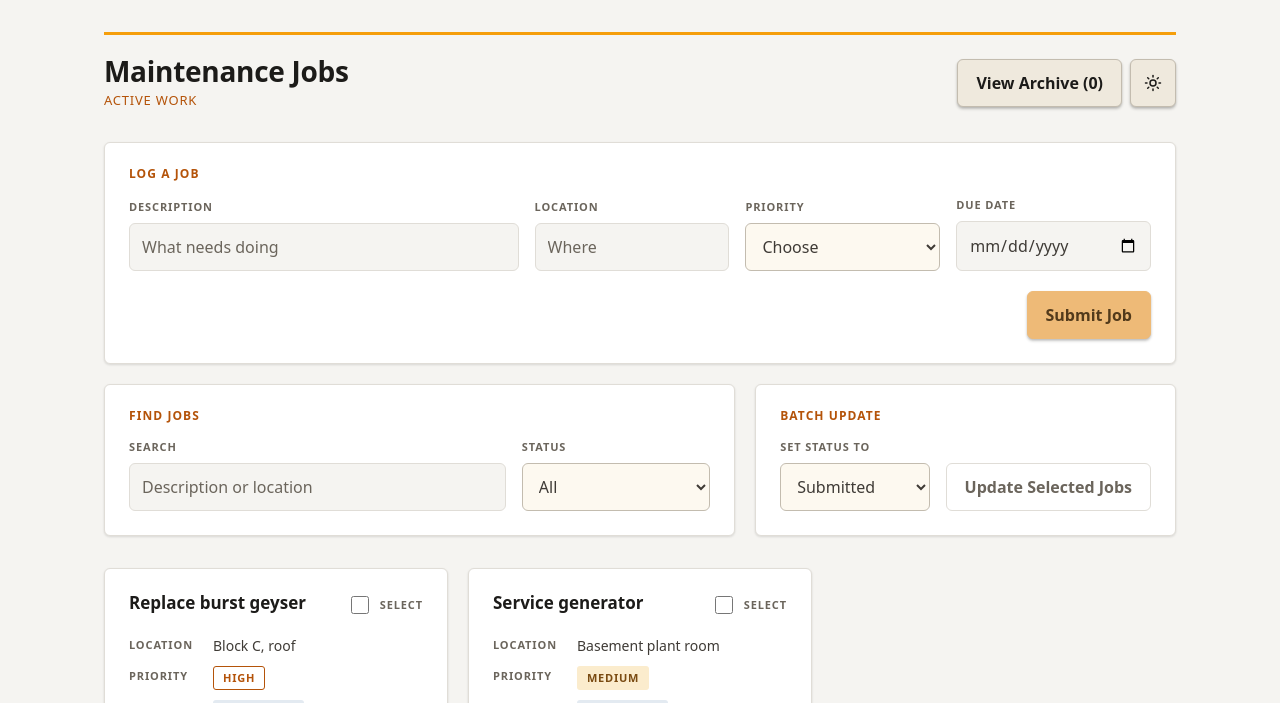
the job form › keeps what was typed when saving fails
The width and height of the screenshot is (1280, 703).
Expected: the heading "Replace burst geyser" is shown, [129,593,321,613]
Type "Fix the lift" into the field labelled "Description" at (324, 247), box [129,223,519,271]
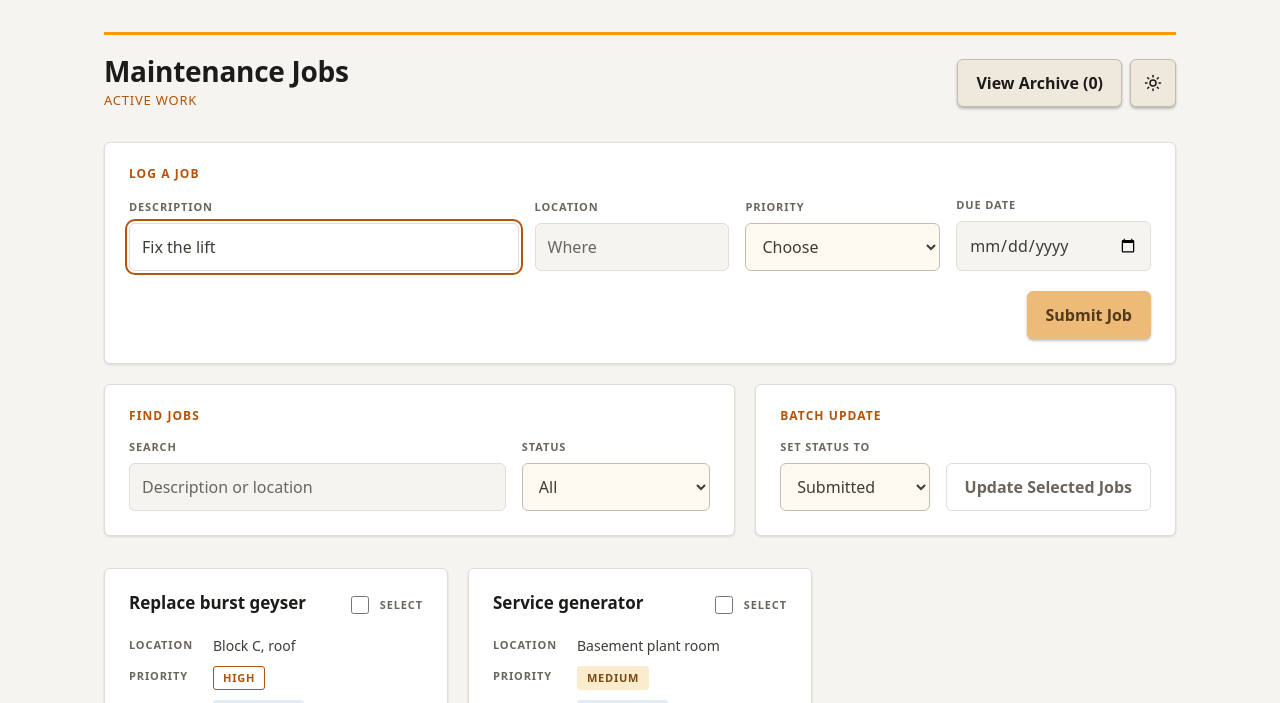
Type "Lobby" into the field labelled "Location" at (632, 247), box [535,223,729,271]
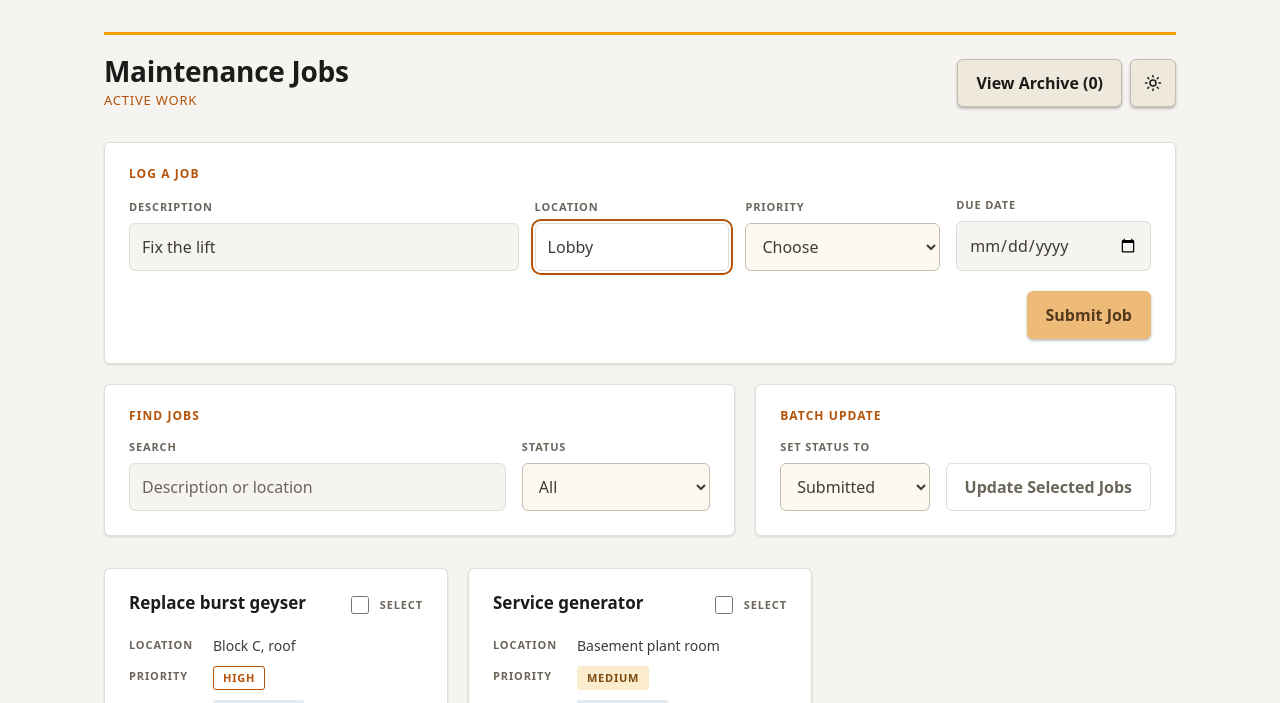
Select "High" in the dropdown labelled "Priority" at (843, 247), box [745,223,940,271]
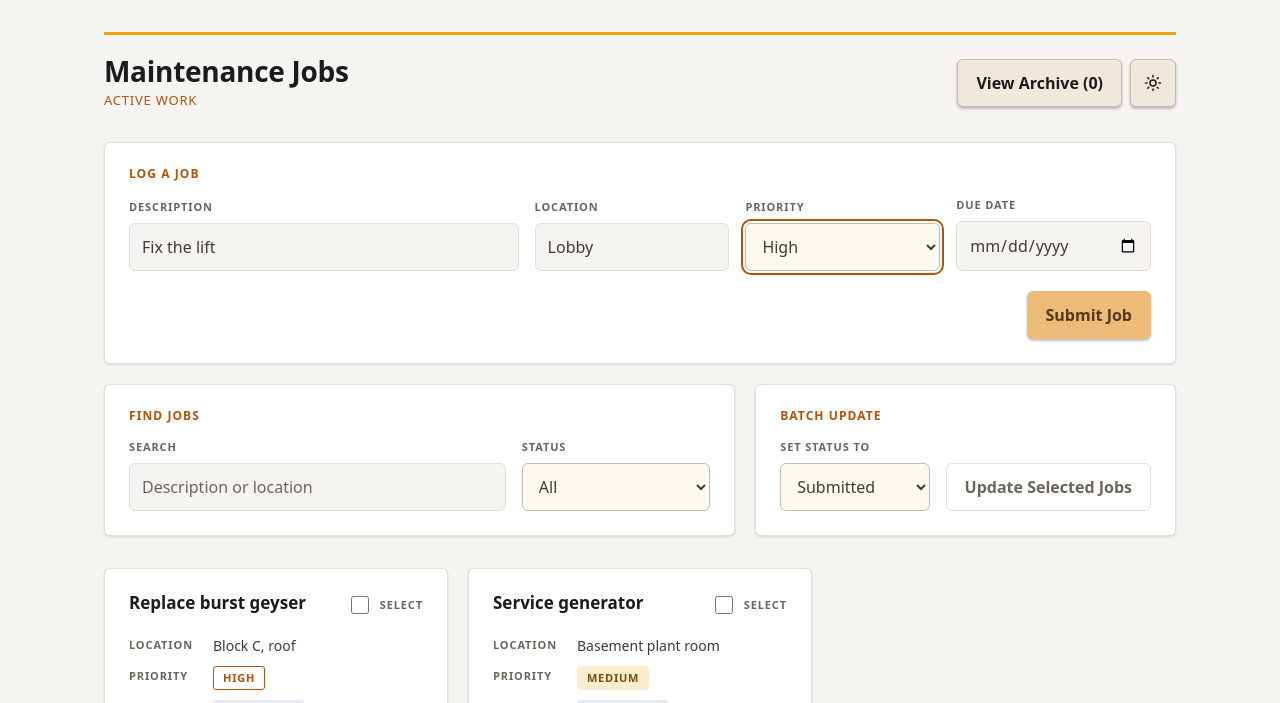
Click the button "Submit Job" at (1089, 315), box [1026,291,1151,339]
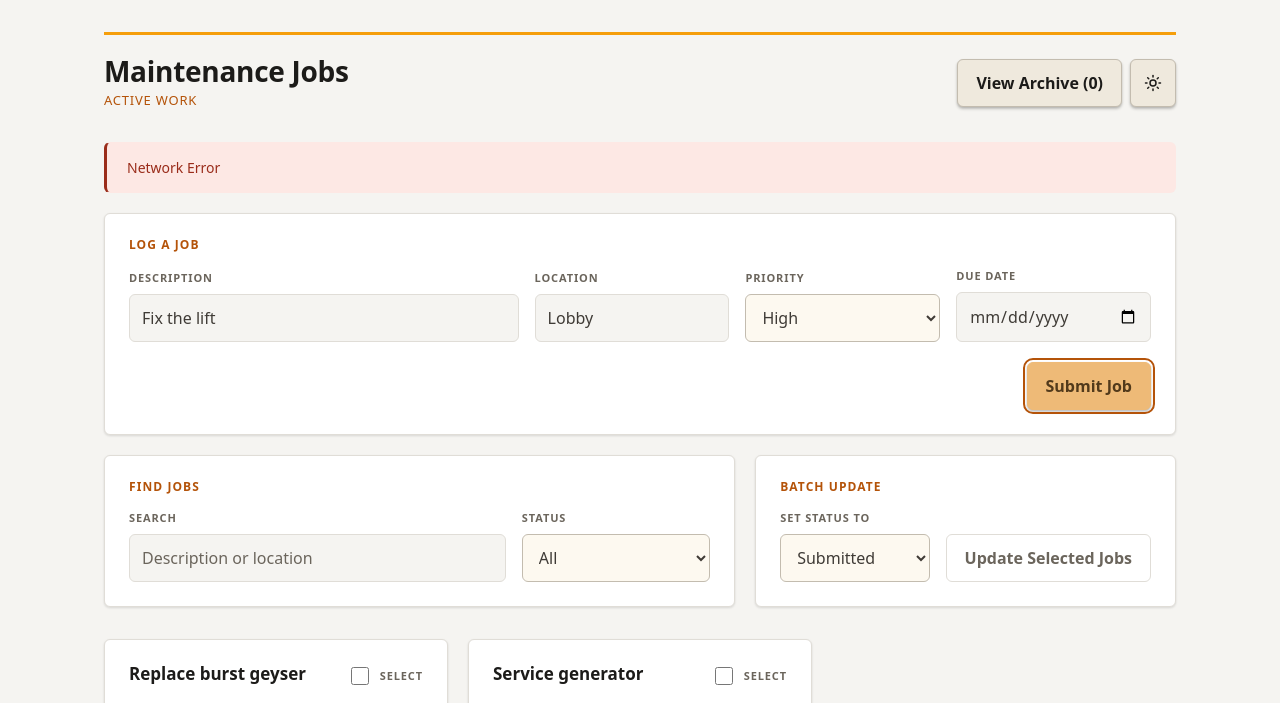
Result: the message "Network Error" is shown at [104,142,1176,193]
